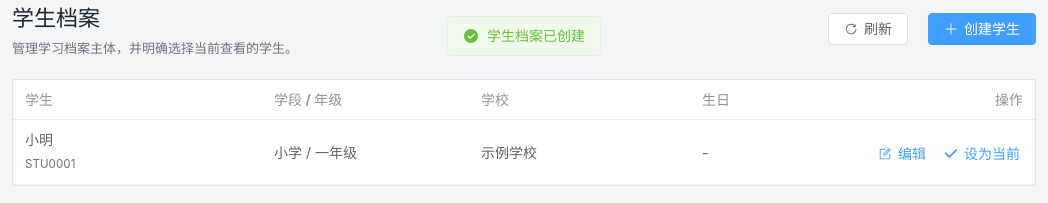
Test: StudentView › sets a listed student explicitly and displays the current marker
The width and height of the screenshot is (1048, 203).
Click the button "设为当前".
click(982, 154)  # box [941, 144, 1023, 164]
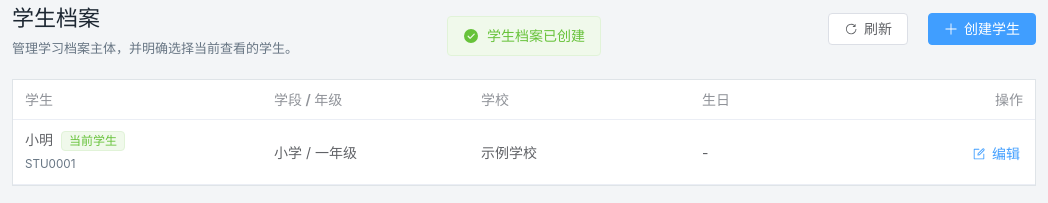
Check: the text "当前学生" is shown, box [69, 135, 117, 147]
